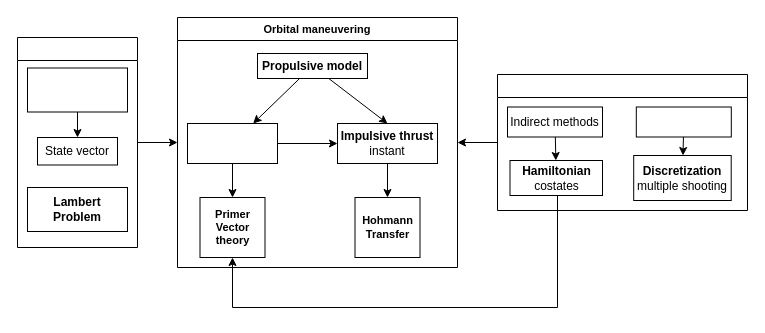
Image size: 765x333. Some labels were removed from this diagram. The box of each missing label's shape, as (x1, y1, x2, y2) in pixels:
Direct methods: (635, 106, 731, 137)
Dynamic model Gravity: (26, 67, 128, 112)
Finite thrust constant I SP: (186, 122, 278, 164)
Optimal Control: (496, 74, 748, 210)
Orbital mechanics: (16, 36, 138, 248)
